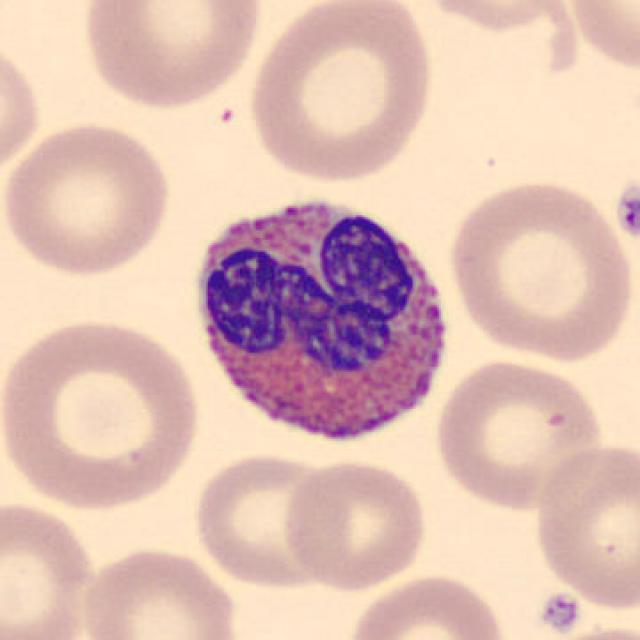Eosinophil: (181, 177, 466, 466)
Platelets: (537, 589, 583, 636), (611, 174, 640, 248)
RBC: (3, 316, 205, 512), (442, 173, 636, 365), (242, 0, 441, 187), (0, 118, 178, 279), (430, 354, 610, 513), (187, 450, 345, 590), (76, 0, 266, 113), (279, 455, 430, 594), (528, 438, 638, 616), (76, 543, 244, 640), (0, 497, 101, 640), (341, 569, 512, 640), (0, 33, 44, 188), (412, 0, 582, 37), (558, 0, 640, 74), (537, 624, 638, 640)
